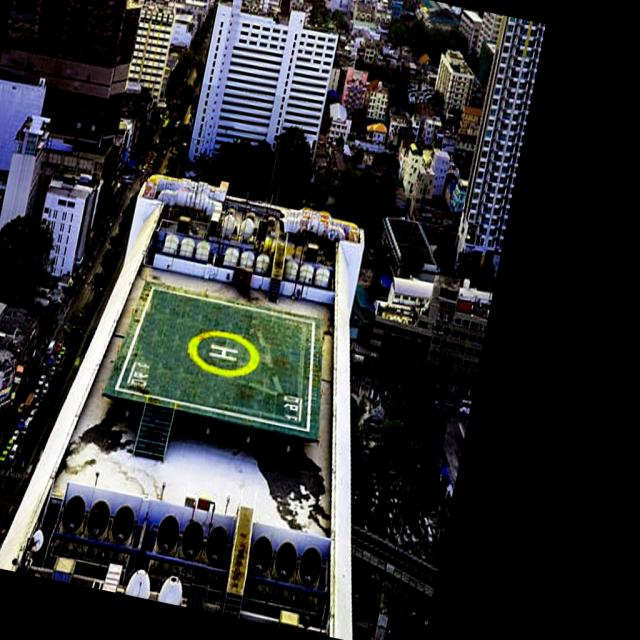helipad: (183, 325, 262, 379)
